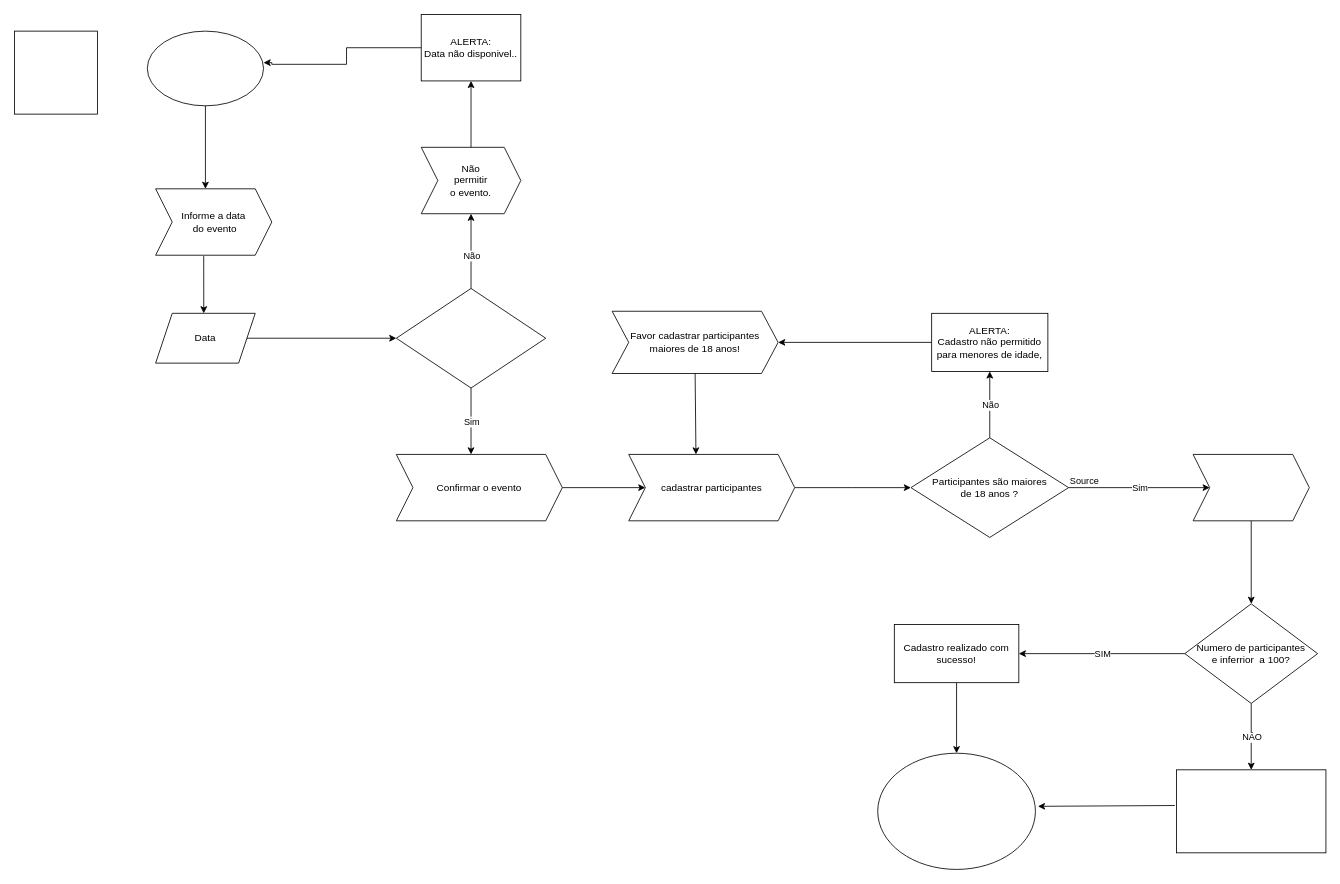
The diagram is 1340 pixels wide and 884 high, and some of its shapes have lost their labels. The centre of each missing label's shape, as x and y in pixels:
Desculpe limite de participantes excedido. Cadastro nao permitido.: [1251,811]
FIM: [956,810]
Inicio: [205,68]
Listar palestrantes do evento.: [1250,487]
Sistema de cadastro de eventos: [56,72]
Verificar se a data e posterior a data atual: [470,338]
